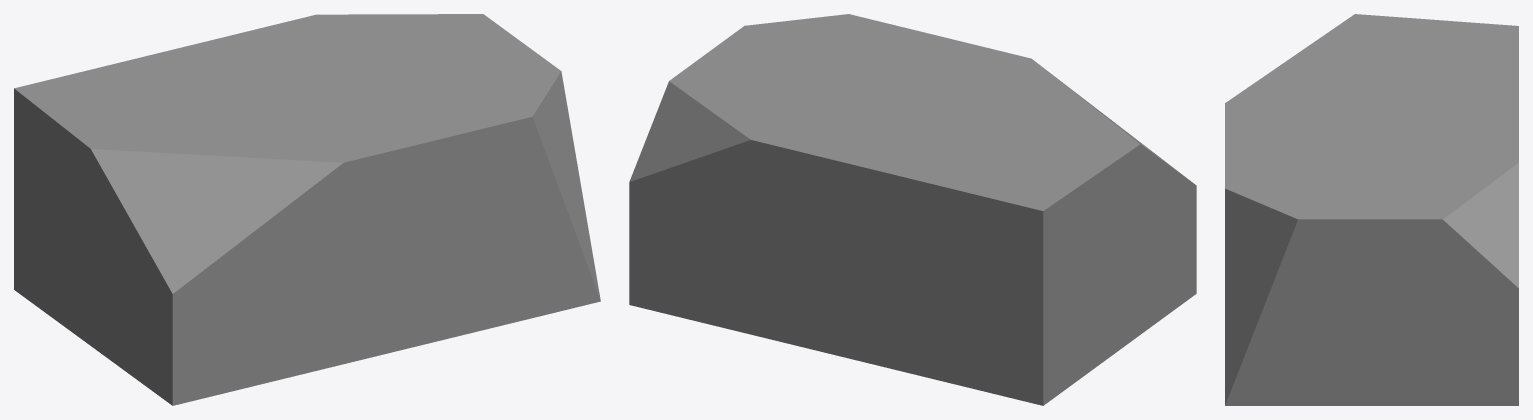
Rendered from Brick_02.fbx.
3 views of the same model, side by side, from view 1: azimuth 30°, elevation 25°; view 2: azimuth 150°, elevation 25°; view 3: azimuth 270°, elevation 25° (orthographic). The views are drawn at different scales.
Visible parts, largest first — view 1: Brick_02; view 2: Brick_02; view 3: Brick_02.
Boxes of the visible parts, box(x1,y1,x2,y2) form: Brick_02: box(14, 14, 600, 405); Brick_02: box(629, 14, 1196, 405); Brick_02: box(1225, 14, 1518, 405).
Size of the model in its own units: 142 by 64.14 by 88.42.
